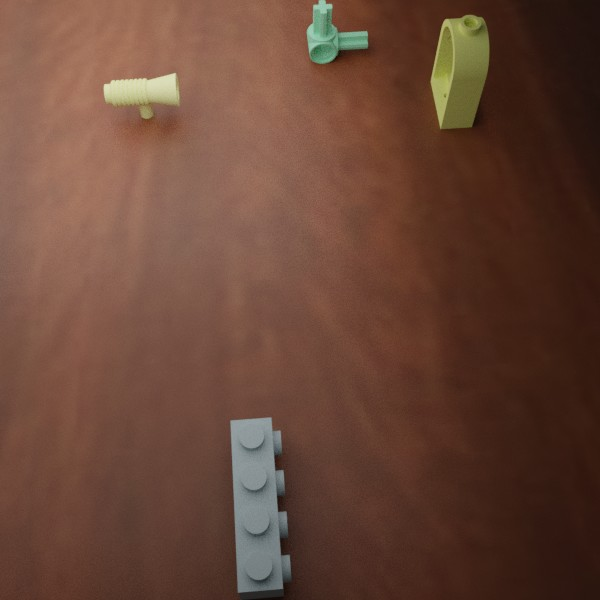lego: (230, 417, 291, 600), (430, 14, 489, 129), (306, 0, 368, 63), (103, 73, 179, 118)
